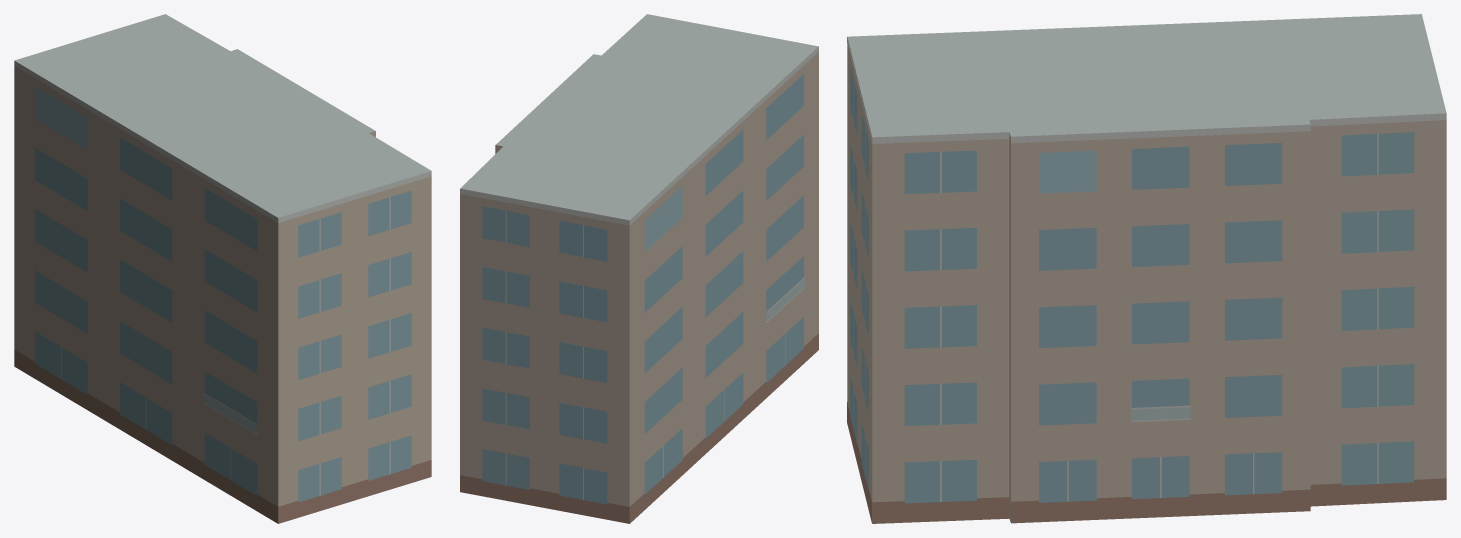
The model's file is survey-upis-32653492.glb.
3 views of the same model, side by side, from view 1: azimuth 30°, elevation 25°; view 2: azimuth 150°, elevation 25°; view 3: azimuth 270°, elevation 25° (orthographic). The views are drawn at different scales.
Parts seen in each view (by area): view 1: survey-upis-32653492.tmp; view 2: survey-upis-32653492.tmp; view 3: survey-upis-32653492.tmp.
Part boxes in pixels (x1,y1,x2,y2): survey-upis-32653492.tmp: [14, 14, 431, 523]; survey-upis-32653492.tmp: [460, 14, 818, 523]; survey-upis-32653492.tmp: [847, 14, 1446, 523].
Size of the model in its own units: 9.69 by 14.15 by 19.89.
